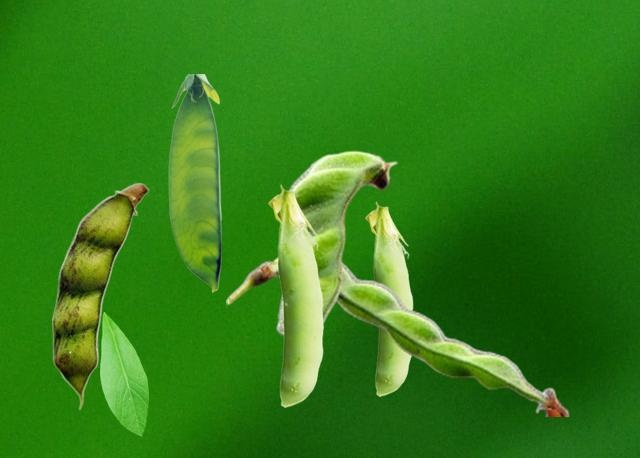pea: (226, 254, 569, 415), (275, 150, 397, 381), (52, 182, 148, 409), (268, 184, 322, 406), (168, 74, 220, 291), (365, 201, 412, 395)
